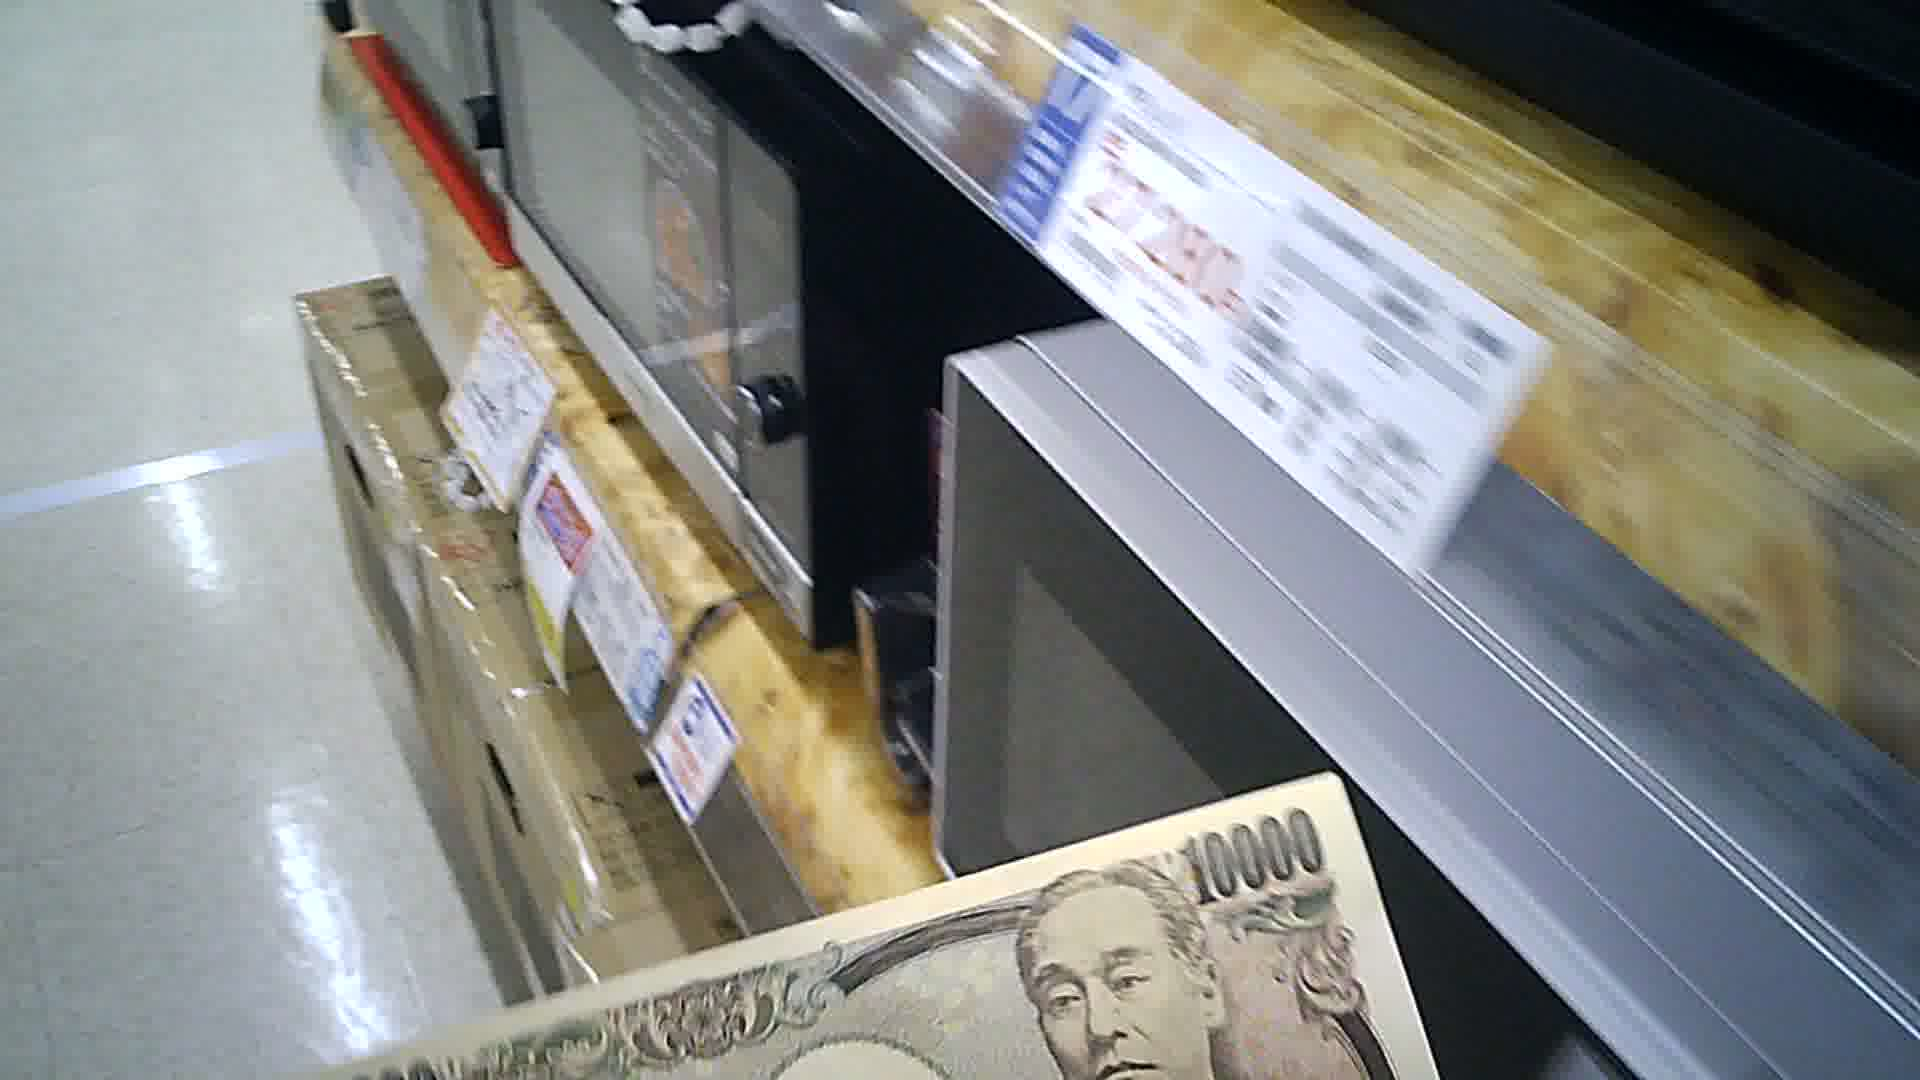10,000 Yen: (220, 757, 1396, 1079)
